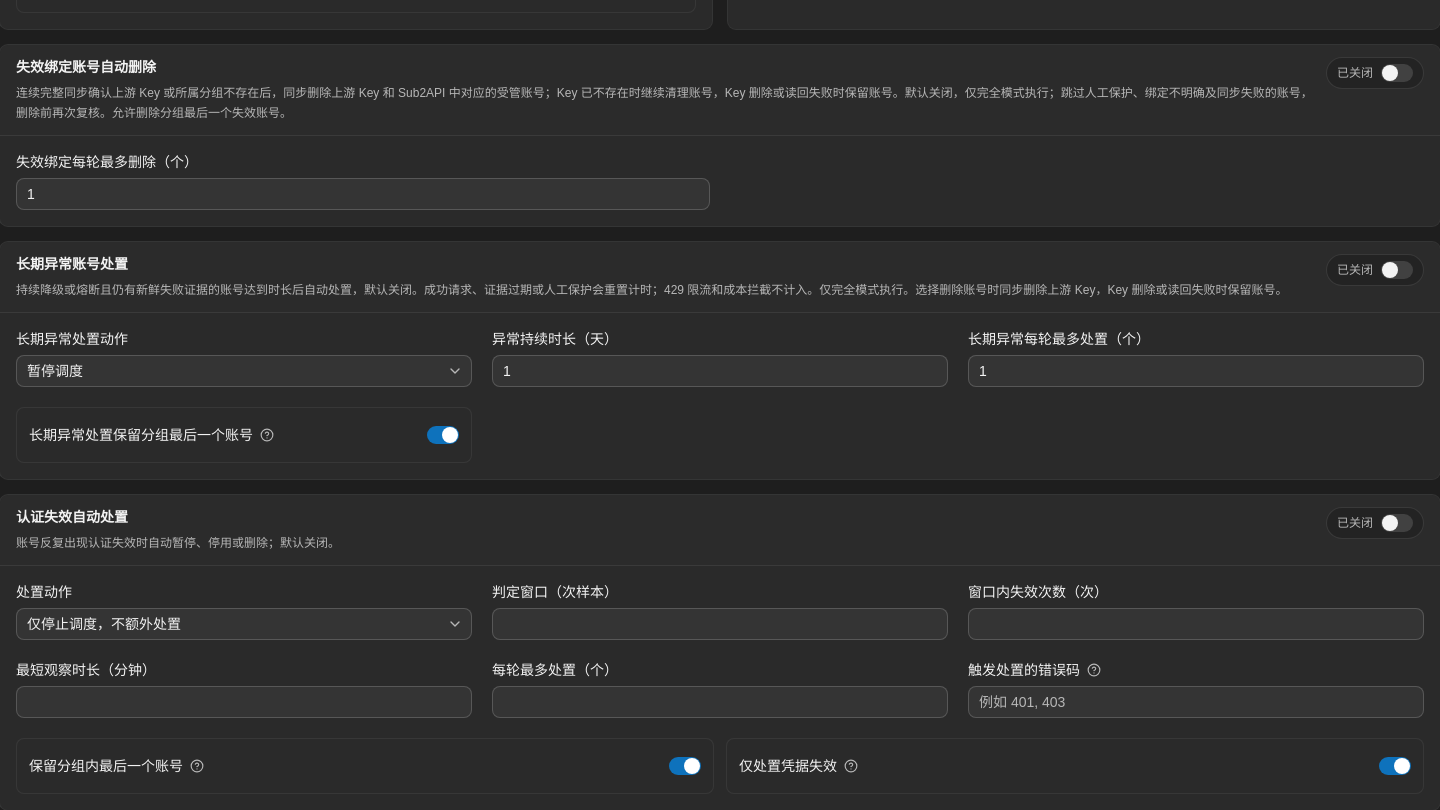
认证失效处置动作 › 点击选择 pause 时回显 暂停调度，并将协议值写入草稿
(page scrolled)
Click the dropdown named "处置动作" at (104, 624), box [16,608,472,640]
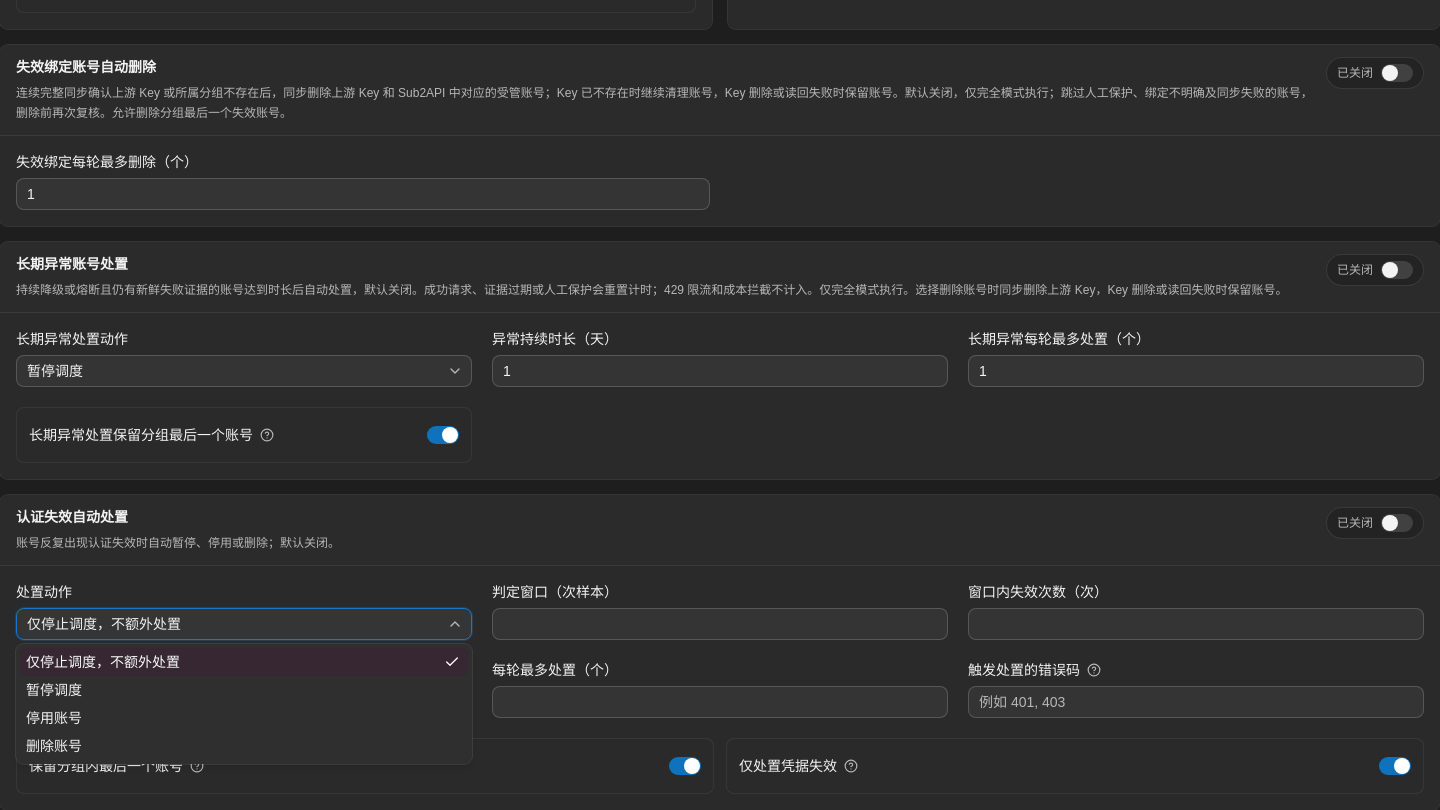
Now the dropdown named "处置动作" is expanded, box [16,608,472,640]
Click the option "暂停调度" at (54, 690), box [26,682,82,698]
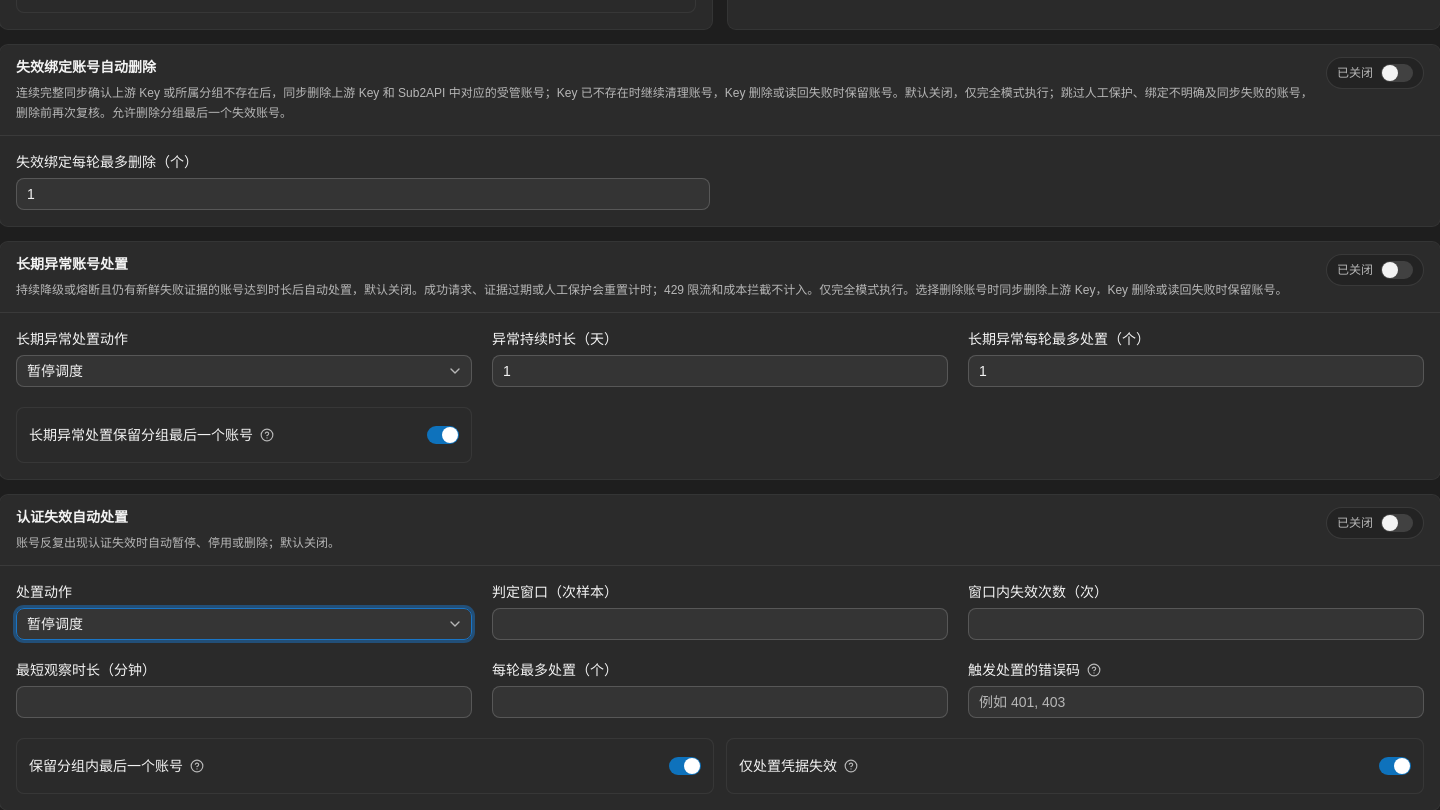
Now the dropdown named "处置动作" shows "暂停调度", box [16,608,472,640]
Now the dropdown named "处置动作" is collapsed, box [16,608,472,640]
